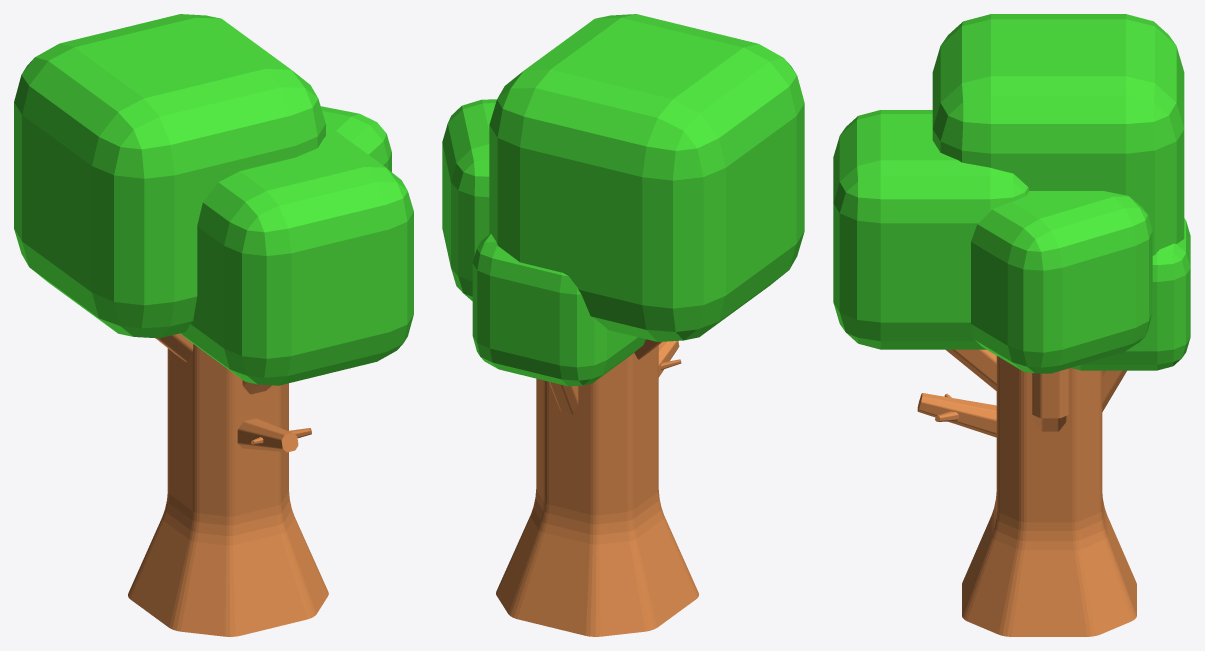
The model's file is TreeMerged.fbx.
The picture shows the model from 3 angles, left to right: view 1: azimuth 30°, elevation 25°; view 2: azimuth 150°, elevation 25°; view 3: azimuth 270°, elevation 25°; orthographic projection. The views are drawn at different scales.
Parts seen in each view (by area): view 1: Leaves, Wood; view 2: Leaves, Wood; view 3: Leaves, Wood.
Boxes of the visible parts, left/top/right/bottom form: Leaves: left=14, top=14, right=413, bottom=385; Wood: left=128, top=333, right=328, bottom=636; Leaves: left=442, top=14, right=804, bottom=386; Wood: left=496, top=339, right=698, bottom=636; Leaves: left=833, top=14, right=1190, bottom=373; Wood: left=917, top=349, right=1136, bottom=636.
Bounding box in the file's own units: 349 × 569 × 350.
